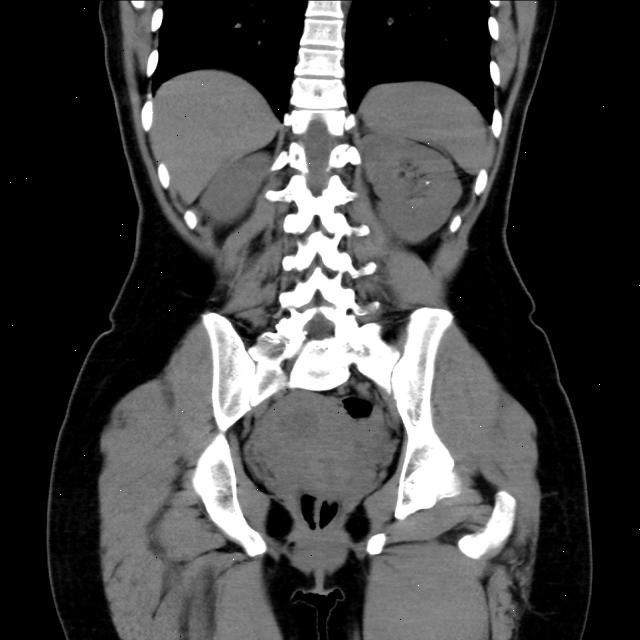kidneystone: (423, 172, 431, 185)
